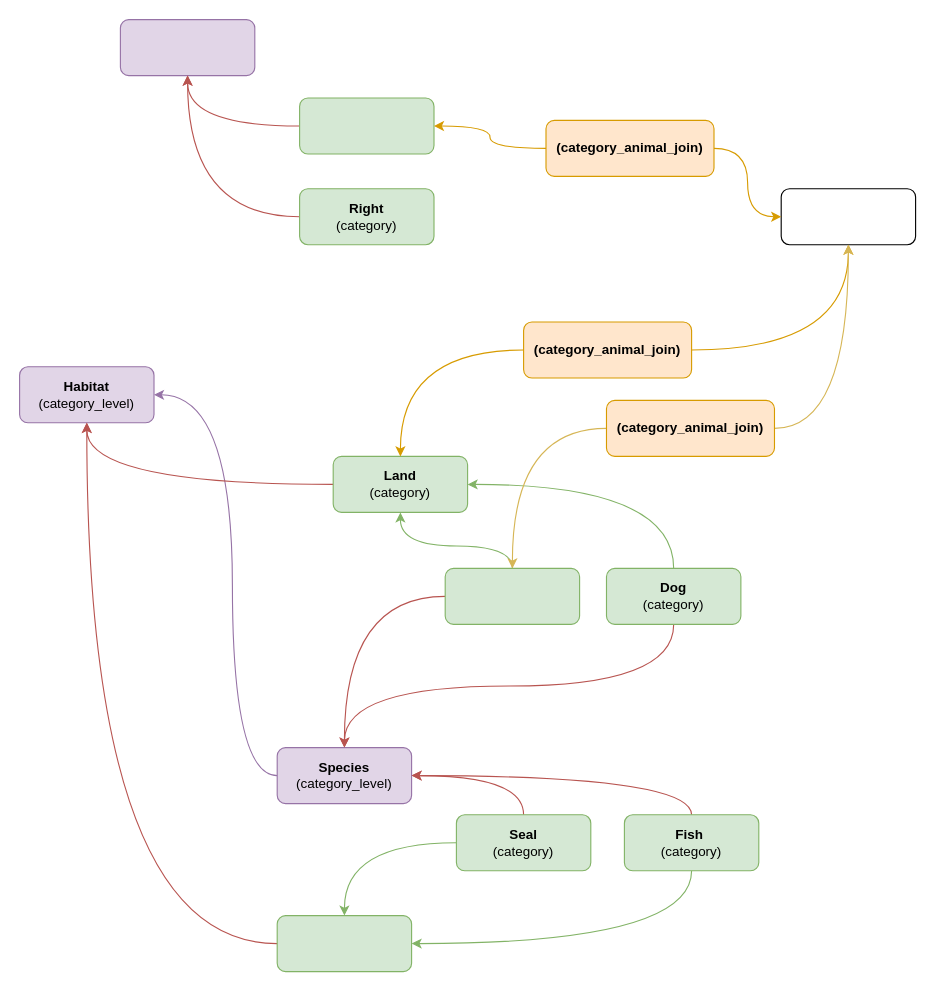
The diagram is 935 pixels wide and 991 high, and some of its shapes have lost their labels. The shapes that lost their labels are listed below. From the top down, each one's centre as x and y in pixels, then its label:
pixel 187 47: Handness (category_level)
pixel 366 125: Left (category)
pixel 848 216: Glop (animal)
pixel 512 595: Cat (category)
pixel 344 943: Aquatic (category)
